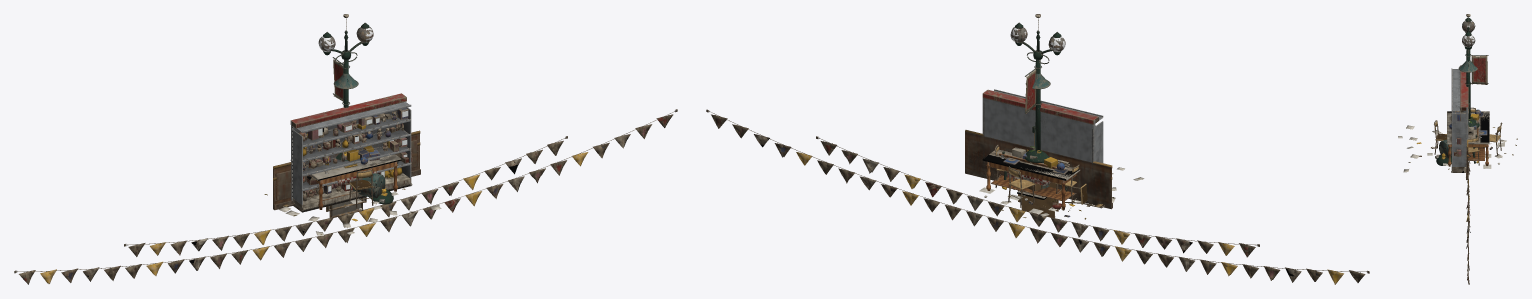
Rendered from LotteWorld_PropsHQ.fbx.
The picture shows the model from 3 angles, left to right: view 1: azimuth 30°, elevation 25°; view 2: azimuth 150°, elevation 25°; view 3: azimuth 270°, elevation 25°; orthographic projection. The views are drawn at different scales.
Visible parts, largest first — view 1: Prop_Shelf3_LOD1__LW_PHQ_Steel, Prop_Shelf3_LOD0__LW_PHQ_Steel, Prop_Shelf3_LOD0__LW_PHQ_FadedRed, Prop_Shelf3_LOD1__LW_PHQ_Cream, Prop_Shelf3_LOD0__LW_PHQ_Cream, Prop_Wainscot_LOD0__LW_PHQ_Wainscot, Prop_Shelf3_LOD1__LW_PHQ_FadedPink, Prop_Bunting18_LOD1__LW_PHQ_FadedYellow, Prop_DisplayTable_LOD0__LW_PHQ_Wood, Prop_Bunting18_LOD1__LW_PHQ_IronBlack, Prop_Bunting18_LOD1__LW_PHQ_FadedRed, Prop_Wainscot_LOD1__LW_PHQ_Wainscot (+11 smaller); view 2: Prop_Wainscot_LOD1__LW_PHQ_Wainscot, Prop_Shelf3_LOD0__LW_PHQ_Steel, Prop_Shelf3_LOD1__LW_PHQ_Steel, Prop_Shelf3_LOD0__LW_PHQ_FadedRed, Prop_DisplayTable_LOD0__LW_PHQ_StoneCap, Prop_DisplayTable_LOD0__LW_PHQ_Wood, Prop_Bunting18_LOD1__LW_PHQ_Cream, Prop_Bunting18_LOD0__LW_PHQ_FadedBlue, Prop_DisplayTable_LOD1__LW_PHQ_Wood, Prop_Bunting18_LOD1__LW_PHQ_FadedRed, Prop_Bunting18_LOD1__LW_PHQ_IronBlack, Prop_Bunting18_LOD1__LW_PHQ_FadedYellow (+5 smaller); view 3: Prop_Shelf3_LOD0__LW_PHQ_Steel, Prop_DisplayTable_LOD0__LW_PHQ_StoneCap, Prop_DisplayTable_LOD0__LW_PHQ_Wood, Prop_Shelf3_LOD0__LW_PHQ_FadedRed, Prop_Shelf3_LOD1__LW_PHQ_Steel, Prop_Lamp_Off_LOD1__LW_PHQ_FadedRed, Prop_Lamp_Off_LOD0__LW_PHQ_FadedRed, Prop_Litter_LOD0__LW_PHQ_Paper, Prop_Dining_ClothTopple_LOD0__LW_PHQ_IronBlack, Prop_Lamp_Off_LOD1__LW_PHQ_IronGreen, Prop_Dining_Cloth_LOD0__LW_PHQ_Rattan, Prop_DisplayTable_LOD1__LW_PHQ_StoneCap (+13 smaller).
Part boxes in pixels (x1,y1,x2,y2): Prop_Shelf3_LOD1__LW_PHQ_Steel: (291, 102, 411, 204); Prop_Shelf3_LOD0__LW_PHQ_Steel: (291, 104, 411, 205); Prop_Shelf3_LOD0__LW_PHQ_FadedRed: (290, 93, 406, 198); Prop_Shelf3_LOD1__LW_PHQ_Cream: (302, 113, 410, 209); Prop_Shelf3_LOD0__LW_PHQ_Cream: (292, 109, 411, 211); Prop_Wainscot_LOD0__LW_PHQ_Wainscot: (273, 139, 420, 209); Prop_Shelf3_LOD1__LW_PHQ_FadedPink: (303, 118, 398, 197); Prop_Bunting18_LOD1__LW_PHQ_FadedYellow: (40, 152, 588, 283); Prop_DisplayTable_LOD0__LW_PHQ_Wood: (308, 161, 397, 209); Prop_Bunting18_LOD1__LW_PHQ_IronBlack: (17, 111, 675, 271); Prop_Bunting18_LOD1__LW_PHQ_FadedRed: (19, 115, 667, 284); Prop_Wainscot_LOD1__LW_PHQ_Wainscot: (274, 134, 420, 209); Prop_Wainscot_LOD1__LW_PHQ_Wainscot: (965, 131, 1112, 208); Prop_Shelf3_LOD0__LW_PHQ_Steel: (983, 97, 1103, 162); Prop_Shelf3_LOD1__LW_PHQ_Steel: (982, 89, 1102, 200); Prop_Shelf3_LOD0__LW_PHQ_FadedRed: (982, 89, 1098, 124); Prop_DisplayTable_LOD0__LW_PHQ_StoneCap: (983, 149, 1080, 180); Prop_DisplayTable_LOD0__LW_PHQ_Wood: (986, 161, 1076, 209); Prop_Bunting18_LOD1__LW_PHQ_Cream: (754, 134, 1297, 282); Prop_Bunting18_LOD0__LW_PHQ_FadedBlue: (774, 143, 1322, 281); Prop_DisplayTable_LOD1__LW_PHQ_Wood: (987, 162, 1074, 209); Prop_Bunting18_LOD1__LW_PHQ_FadedRed: (711, 115, 1360, 282); Prop_Bunting18_LOD1__LW_PHQ_IronBlack: (709, 111, 1366, 271); Prop_Bunting18_LOD1__LW_PHQ_FadedYellow: (796, 152, 1335, 274); Prop_Shelf3_LOD0__LW_PHQ_Steel: (1451, 68, 1468, 168); Prop_DisplayTable_LOD0__LW_PHQ_StoneCap: (1447, 111, 1489, 144); Prop_DisplayTable_LOD0__LW_PHQ_Wood: (1448, 144, 1488, 166); Prop_Shelf3_LOD0__LW_PHQ_FadedRed: (1460, 65, 1468, 110); Prop_Shelf3_LOD1__LW_PHQ_Steel: (1451, 72, 1467, 155); Prop_Lamp_Off_LOD1__LW_PHQ_FadedRed: (1471, 56, 1487, 84); Prop_Lamp_Off_LOD0__LW_PHQ_FadedRed: (1472, 56, 1487, 84); Prop_Litter_LOD0__LW_PHQ_Paper: (1398, 125, 1505, 172); Prop_Dining_ClothTopple_LOD0__LW_PHQ_IronBlack: (1434, 120, 1501, 155); Prop_Lamp_Off_LOD1__LW_PHQ_IronGreen: (1465, 17, 1471, 101); Prop_Dining_Cloth_LOD0__LW_PHQ_Rattan: (1434, 109, 1500, 151); Prop_DisplayTable_LOD1__LW_PHQ_StoneCap: (1447, 111, 1489, 142).
Size of the model in its own units: 18.12 by 5.95 by 3.64.
